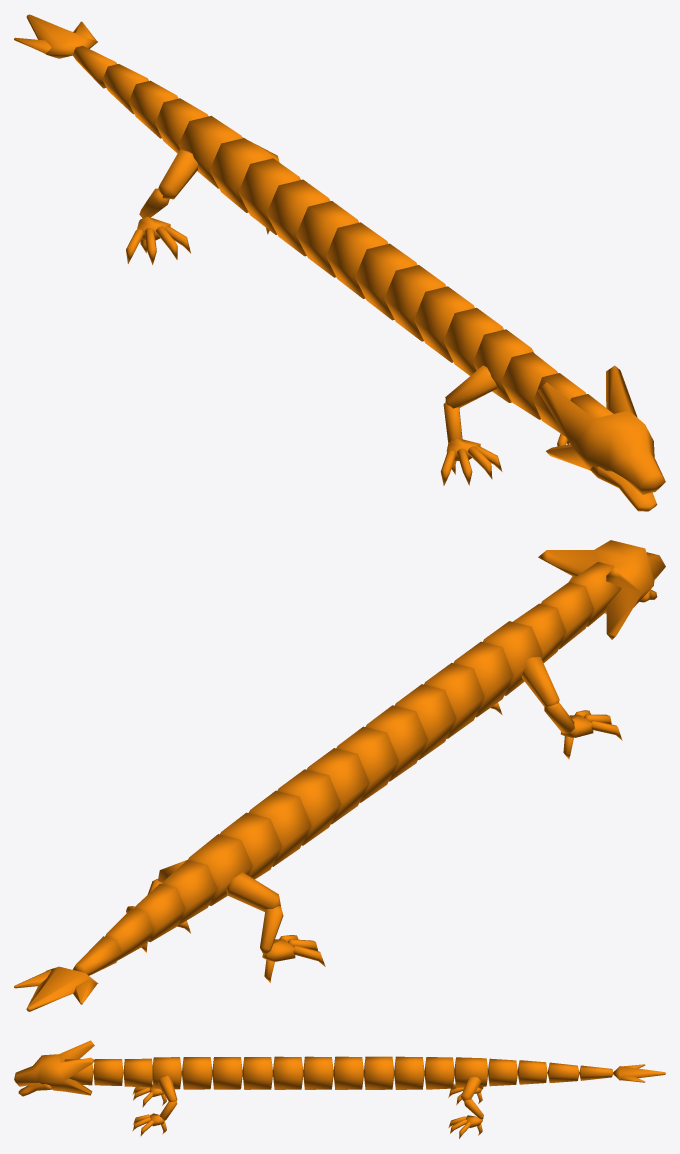
File: dragon_proxy_rig_Derek.fbx
3 renders of one model, top to bottom at view 1: azimuth 30°, elevation 25°; view 2: azimuth 150°, elevation 25°; view 3: azimuth 270°, elevation 25°, orthographic. The views are drawn at different scales.
Parts seen in each view (by area): view 1: proxy_head, proxy_spine07, proxy_spine06, proxy_spine03, proxy_spine04, proxy_spine05, proxy_spine02, proxy_spine08, proxy_spine09, proxy_spine01, proxy_hips, proxy_neck03 (+12 smaller); view 2: proxy_head, proxy_spine07, proxy_spine08, proxy_spine05, proxy_spine04, proxy_spine06, proxy_spine03, proxy_spine01, proxy_spine02, proxy_hips, proxy_spine09, proxy_tail05 (+13 smaller); view 3: proxy_head, proxy_spine07, proxy_spine06, proxy_spine05, proxy_spine08, proxy_spine04, proxy_spine02, proxy_spine01, proxy_spine03, proxy_spine09, proxy_hips, proxy_neck03 (+17 smaller).
Boxes of the visible parts, x1,y1,x2,y2 form: proxy_head: (537, 365, 665, 494); proxy_spine07: (266, 179, 330, 256); proxy_spine06: (296, 201, 358, 277); proxy_spine03: (384, 265, 446, 341); proxy_spine04: (355, 243, 417, 320); proxy_spine05: (326, 222, 388, 298); proxy_spine02: (414, 286, 474, 362); proxy_spine08: (238, 158, 300, 234); proxy_spine09: (209, 138, 271, 212); proxy_spine01: (443, 307, 503, 375); proxy_hips: (178, 115, 242, 188); proxy_neck03: (501, 352, 557, 419); proxy_head: (538, 540, 665, 639); proxy_spine07: (277, 769, 341, 845); proxy_spine08: (248, 790, 311, 866); proxy_spine05: (336, 726, 398, 802); proxy_spine04: (365, 705, 427, 781); proxy_spine06: (307, 748, 369, 824); proxy_spine03: (394, 684, 456, 759); proxy_spine01: (453, 641, 513, 717); proxy_spine02: (424, 663, 484, 738); proxy_hips: (188, 834, 252, 905); proxy_spine09: (220, 812, 282, 879); proxy_tail05: (14, 966, 98, 1011); proxy_head: (14, 1040, 94, 1095); proxy_spine07: (364, 1056, 394, 1089); proxy_spine06: (333, 1056, 363, 1089); proxy_spine05: (303, 1056, 333, 1089); proxy_spine08: (394, 1056, 424, 1089); proxy_spine04: (273, 1056, 303, 1089); proxy_spine02: (212, 1057, 242, 1089); proxy_spine01: (182, 1057, 212, 1089); proxy_spine03: (242, 1057, 272, 1089); proxy_spine09: (424, 1057, 454, 1089); proxy_hips: (454, 1057, 487, 1087); proxy_neck03: (123, 1058, 152, 1087).
Size of the model in its own units: 25.1 by 16.69 by 138.
